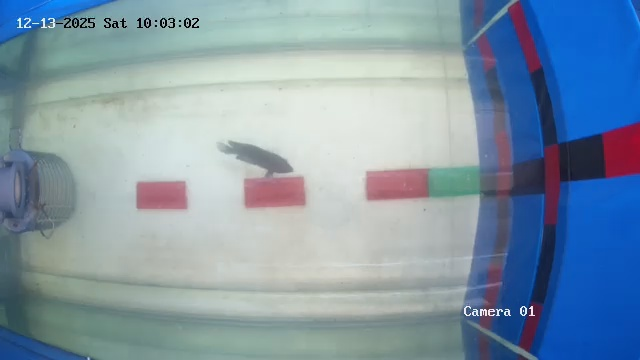fish: (218, 130, 296, 190)
